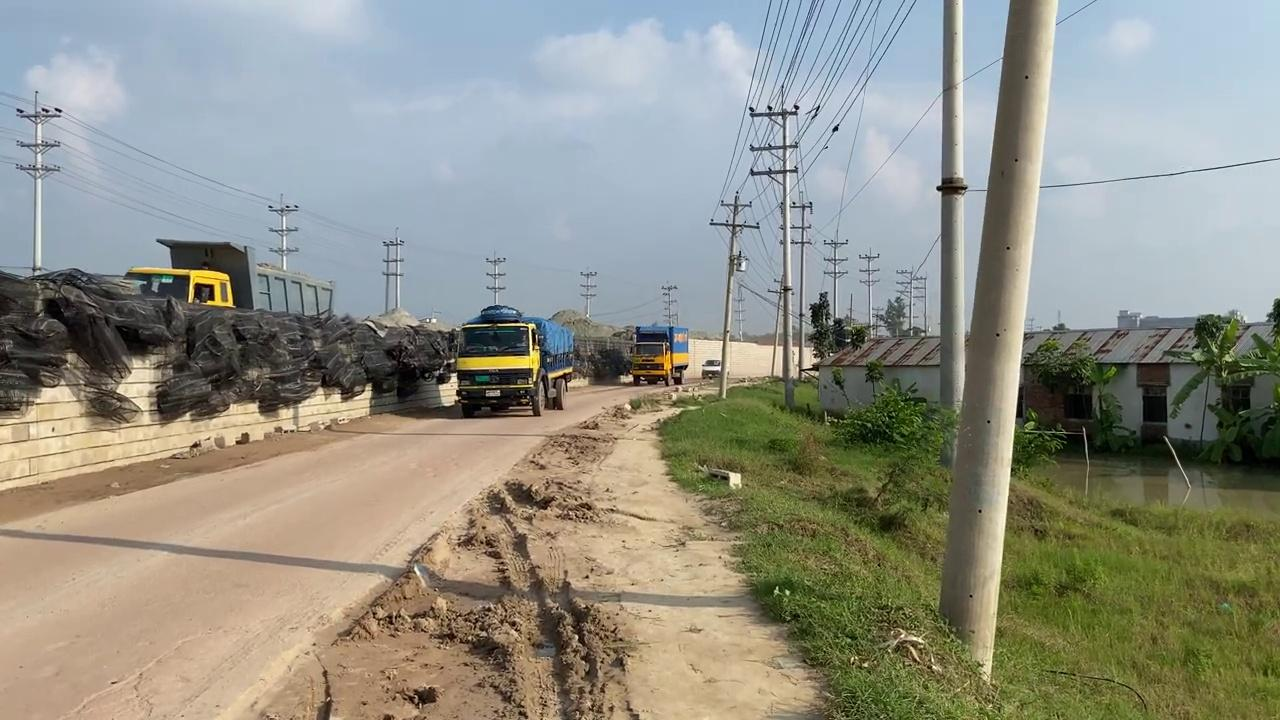Car: (700, 359, 722, 379)
Obstacle: (704, 465, 741, 489)
Pole: (937, 0, 1059, 688), (748, 103, 800, 409), (937, 0, 966, 469)
Rickshaw: (228, 387, 832, 718)
Sidewalk: (1017, 448, 1279, 525)
Tree: (122, 237, 335, 316), (454, 304, 574, 417), (521, 314, 574, 409), (122, 265, 235, 309), (629, 324, 689, 386)
Upstairs: (0, 317, 459, 476)
